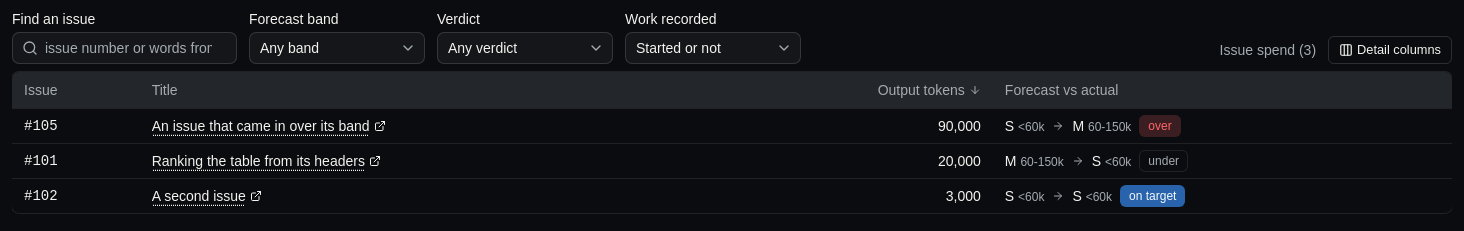
Test: SpendTable headers › returns the ranking to the default when the column it ranked by is hidden
This screenshot has width=1464, height=231.
Click the button with aria-label "Show turns, sessions and cache read" at (1390, 50), box left=1328, top=36, right=1452, bottom=64
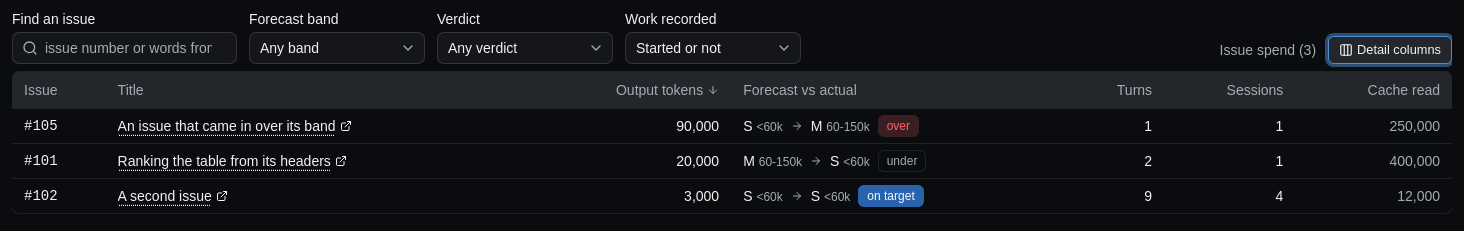
Click the button "Turns" at (1134, 90), box left=1117, top=80, right=1152, bottom=100
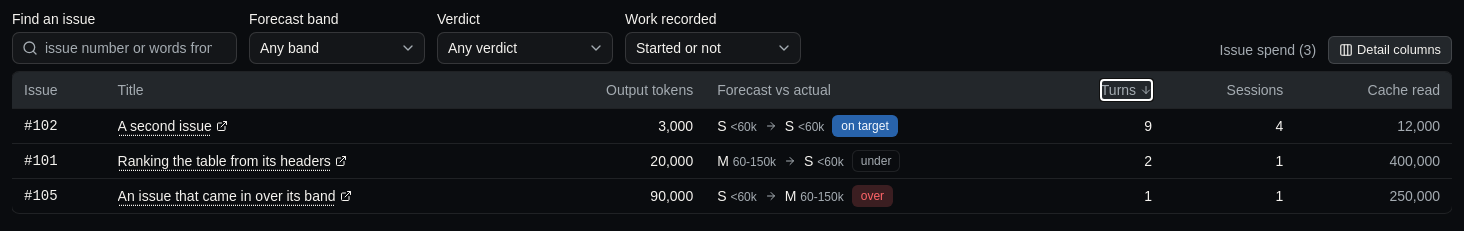
Click the button with aria-label "Show turns, sessions and cache read" at (1390, 50), box left=1328, top=36, right=1452, bottom=64
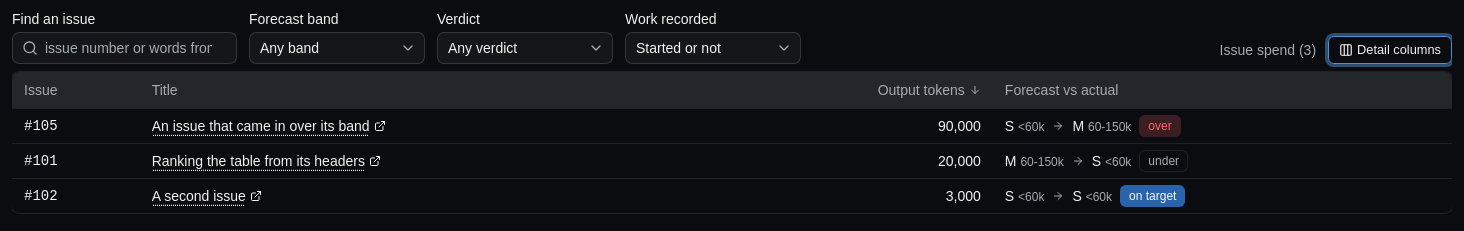
Now the button "Turns" is gone
